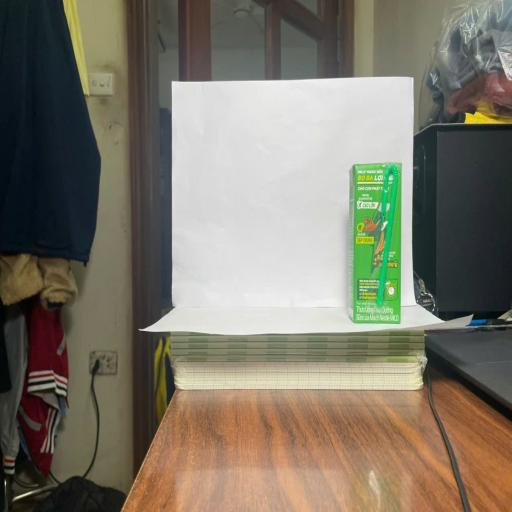milo: (348, 162, 402, 324)
